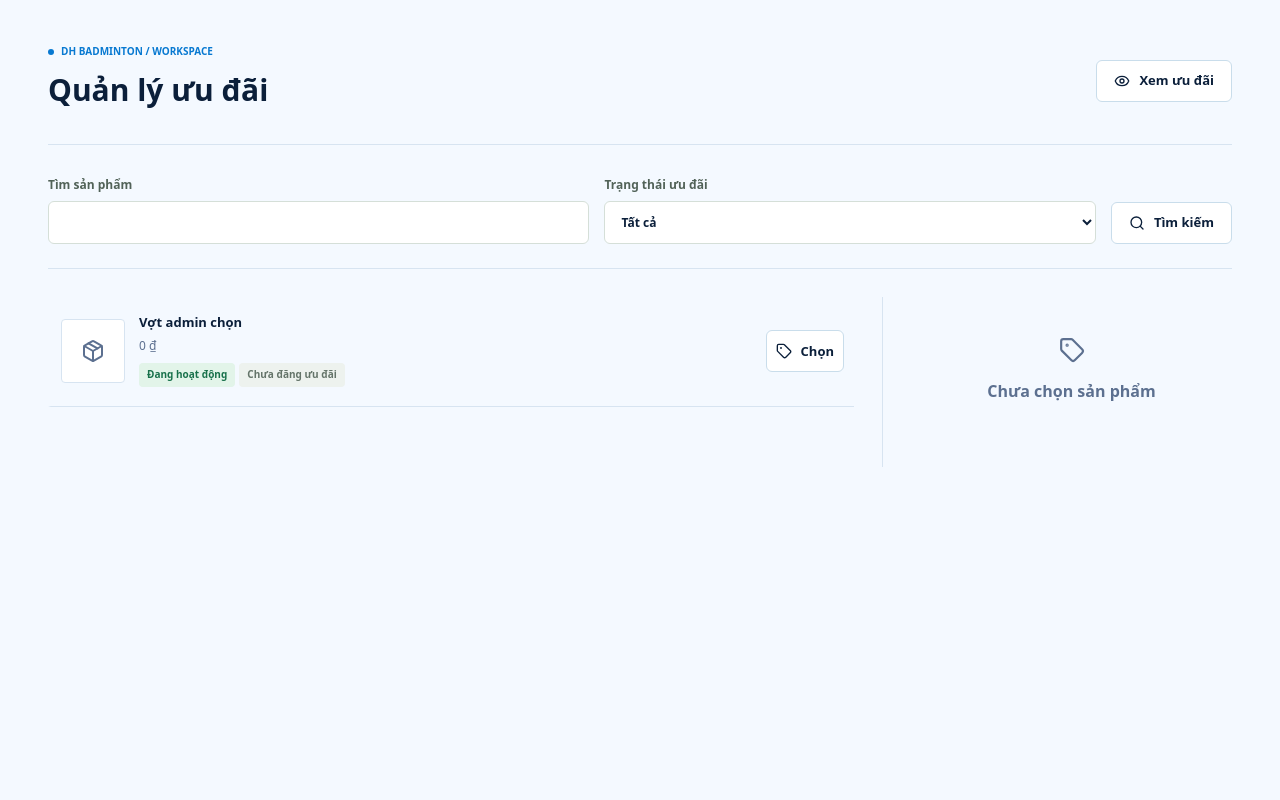
Scenario: cannot publish an unavailable product ({"price":0})
This screenshot has width=1280, height=800.
Click the button with aria-label "Chọn Vợt admin chọn" at (805, 351), box [766, 330, 844, 372]
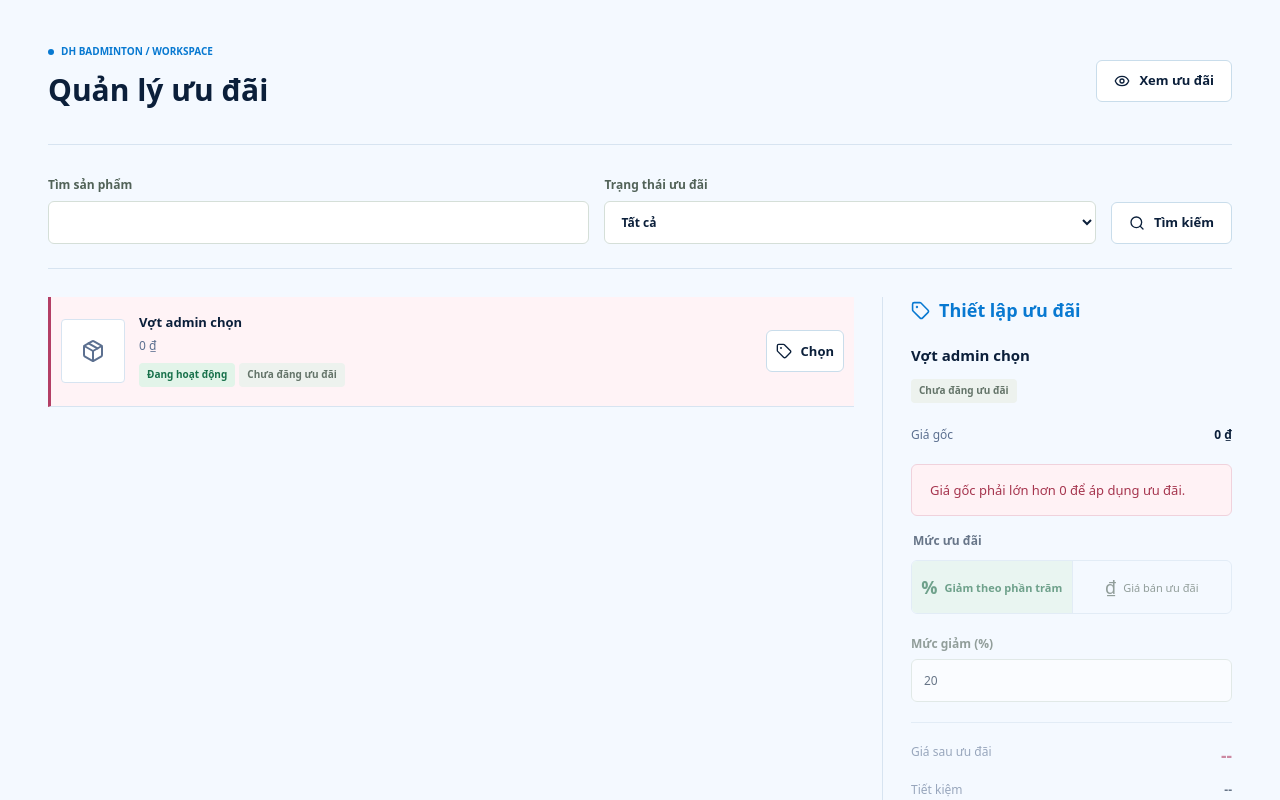
Expected: the message "Giá gốc phải lớn hơn 0 để áp dụng ưu đãi." is shown, [911, 464, 1232, 516]
